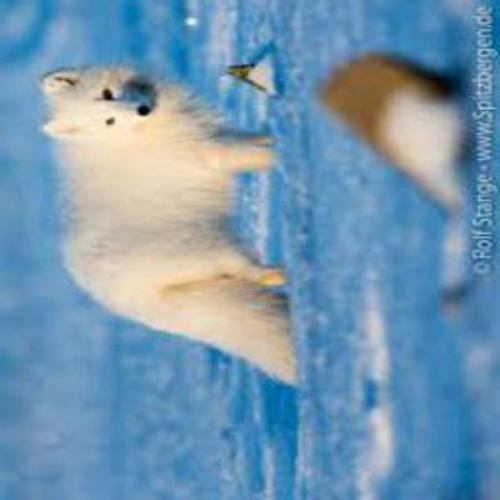arctic_fox-endangered: (38, 66, 298, 382)
